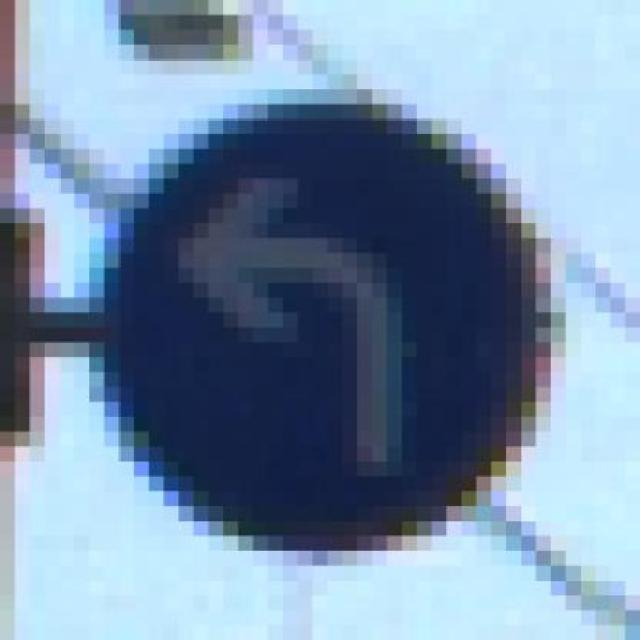Turn left ahead: (89, 74, 566, 566)
